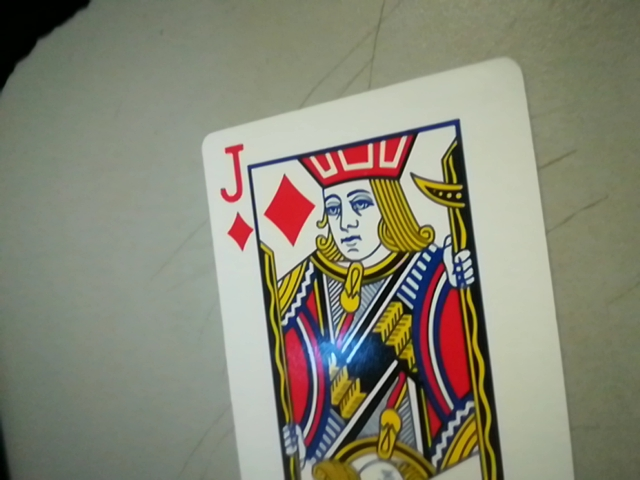fk j: (209, 138, 256, 249)
